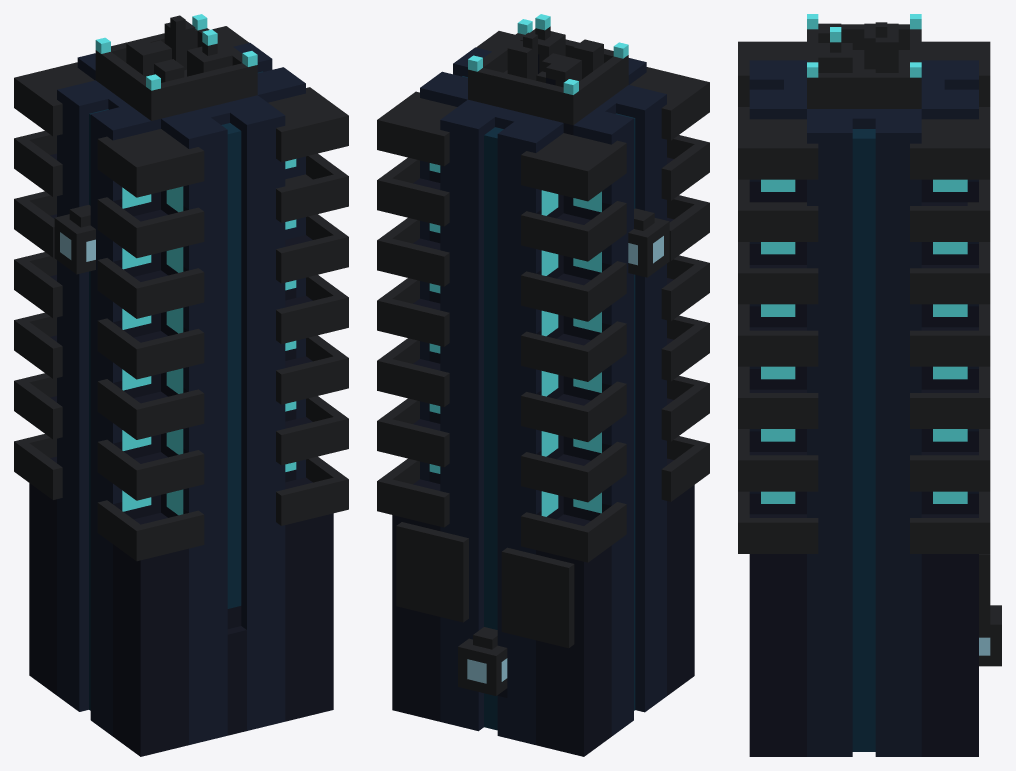
File: torinoCyberPunk-13.obj
3 renders of one model, left to right at view 1: azimuth 30°, elevation 25°; view 2: azimuth 150°, elevation 25°; view 3: azimuth 270°, elevation 25°, orthographic. The views are drawn at different scales.
Bounding box in the file's own units: 2.3 × 6.6 × 2.3.
Materials: 1 (1 with a texture image).
